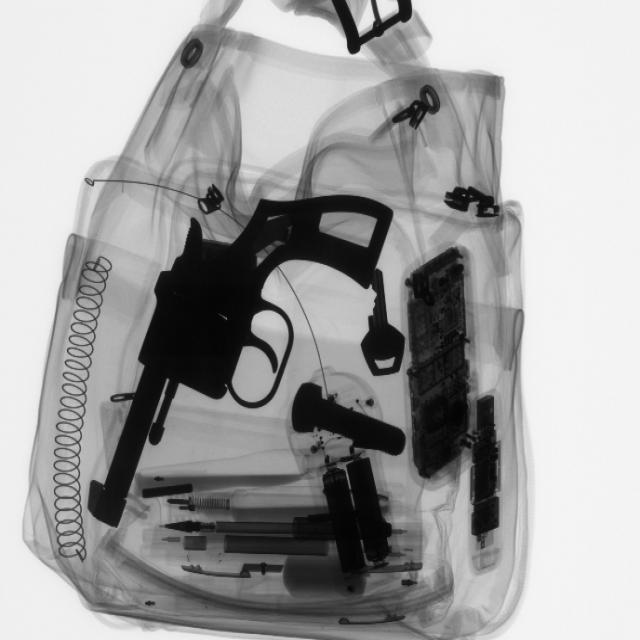GUN: (91, 179, 405, 525)
